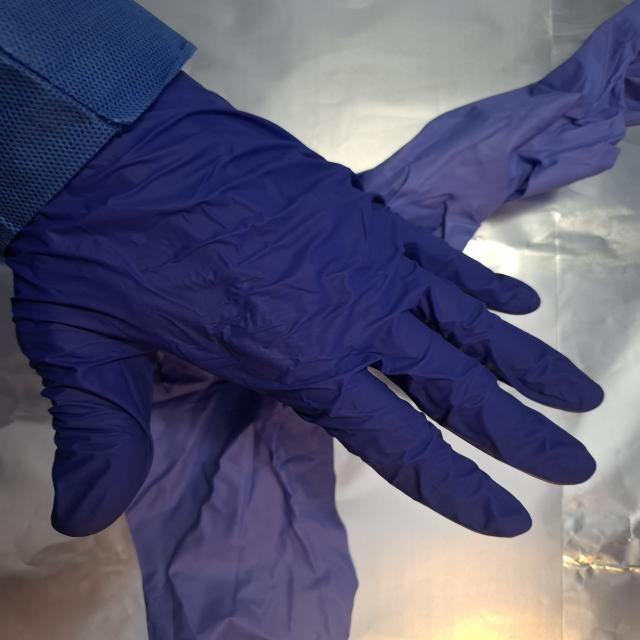glove_on: (6, 68, 607, 540)
